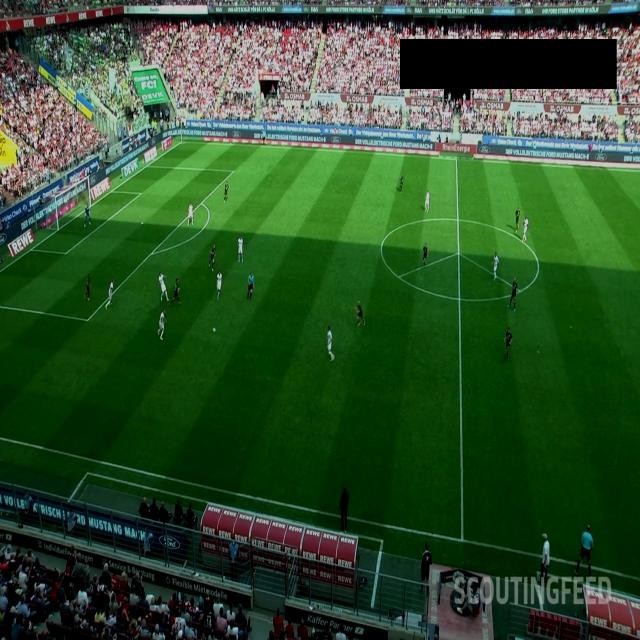ball: (212, 326, 216, 335)
goalkeeper: (84, 205, 92, 228)
player: (168, 276, 180, 306), (508, 276, 518, 312), (158, 272, 169, 302), (158, 309, 168, 341), (327, 325, 335, 363), (104, 280, 114, 310), (504, 327, 513, 359), (356, 300, 366, 328), (492, 251, 499, 281), (209, 243, 216, 271), (237, 236, 244, 264), (522, 215, 529, 242), (216, 270, 222, 300), (84, 276, 91, 301), (187, 202, 194, 226), (514, 205, 520, 232), (422, 242, 428, 266), (424, 190, 430, 213), (398, 174, 405, 192), (224, 182, 228, 202)
referee: (574, 524, 594, 576), (248, 270, 255, 300), (261, 127, 267, 146)
